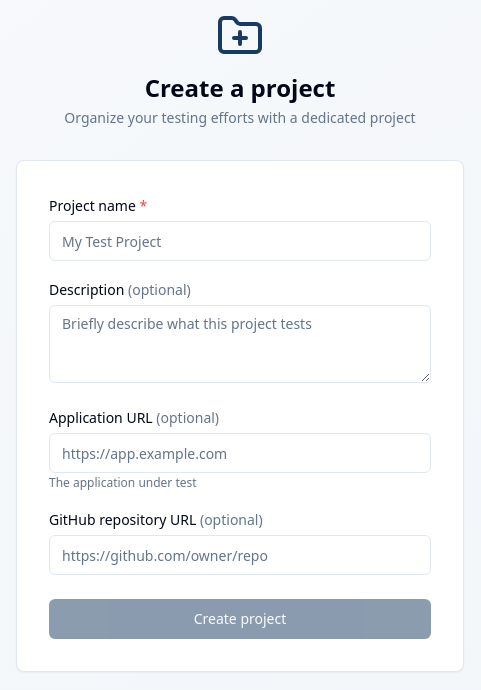
CreateProjectPage › Loading state › shows "Creating project…" text while submitting
This screenshot has width=481, height=690.
Type "My Project" into the field with test id "input-project-name" at (240, 241), box left=49, top=221, right=431, bottom=261
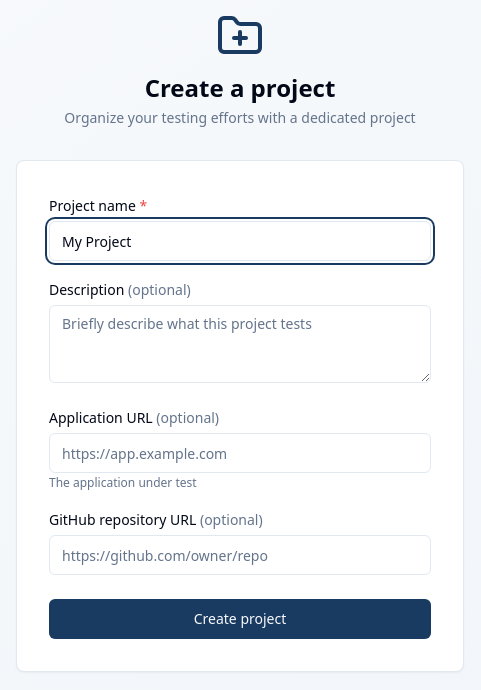
Click the button with test id "submit-btn" at (240, 619), box left=49, top=599, right=431, bottom=639
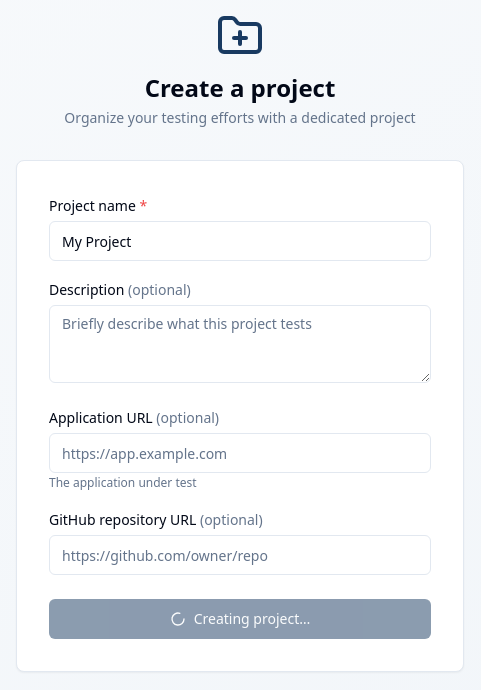
expect the button "Creating project…" is shown: met, box left=49, top=599, right=431, bottom=639
